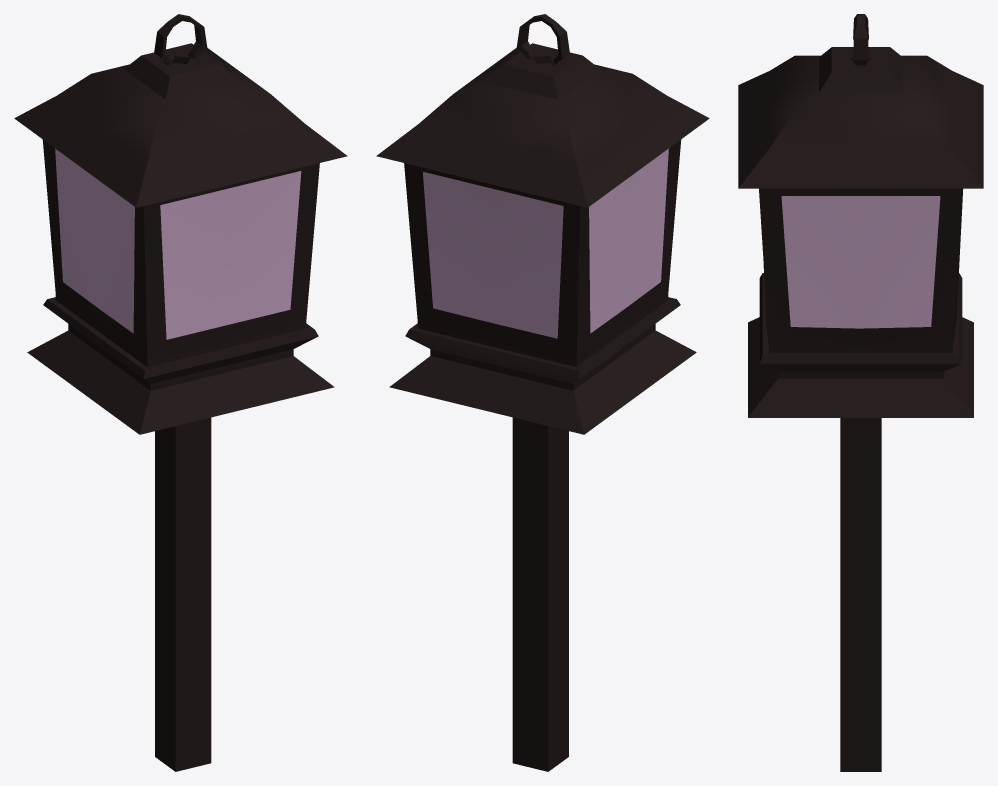
The model's file is prop_Lantern_05.fbx.
The picture shows the model from 3 angles, left to right: view 1: azimuth 30°, elevation 25°; view 2: azimuth 150°, elevation 25°; view 3: azimuth 270°, elevation 25°; orthographic projection.
Visible parts, largest first — view 1: Lantern_05; view 2: Lantern_05; view 3: Lantern_05.
Boxes of the visible parts, x1=… form: Lantern_05: x1=14, y1=14, x2=347, y2=771; Lantern_05: x1=376, y1=14, x2=709, y2=771; Lantern_05: x1=738, y1=14, x2=983, y2=771.
Size of the model in its own units: 22.49 by 75.7 by 22.49.
